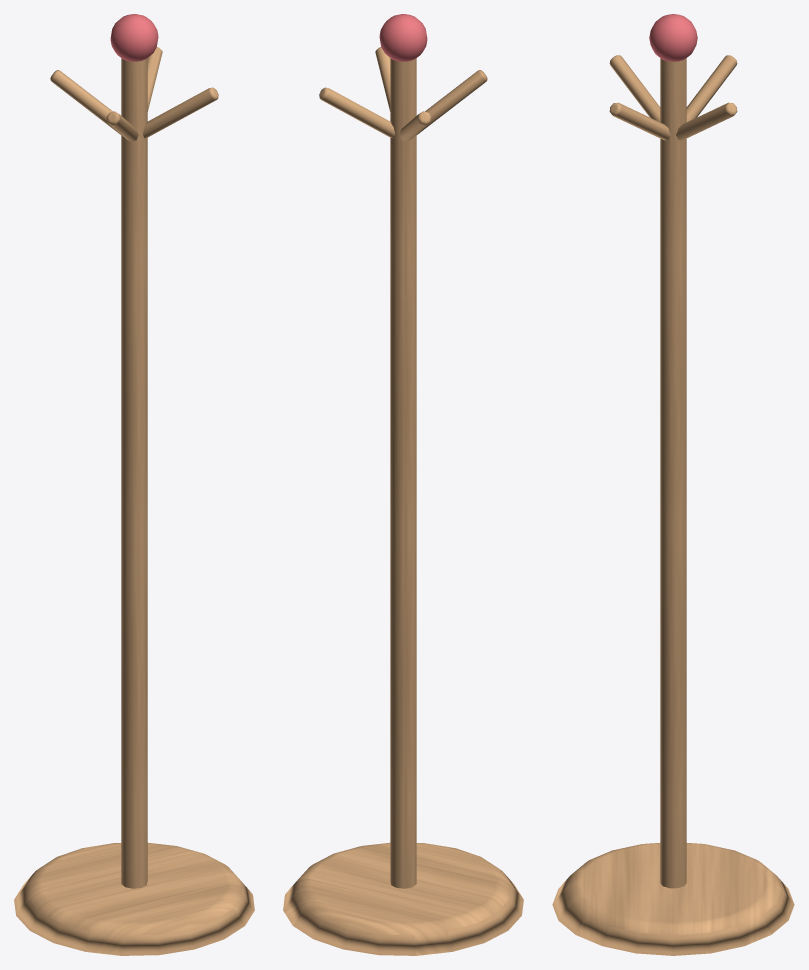
The model's file is prop_coat_rack.glb.
The picture shows the model from 3 angles, left to right: view 1: azimuth 30°, elevation 25°; view 2: azimuth 150°, elevation 25°; view 3: azimuth 270°, elevation 25°; orthographic projection.
Visible parts, largest first — view 1: prop_coat_rack; view 2: prop_coat_rack; view 3: prop_coat_rack.
Part boxes in pixels (x1,y1,x2,y2): prop_coat_rack: [14, 14, 254, 955]; prop_coat_rack: [283, 14, 523, 955]; prop_coat_rack: [552, 14, 794, 955].
Bounding box in the file's own units: 0.5 × 2.03 × 0.5.
Materials: 2 (1 with a texture image).
